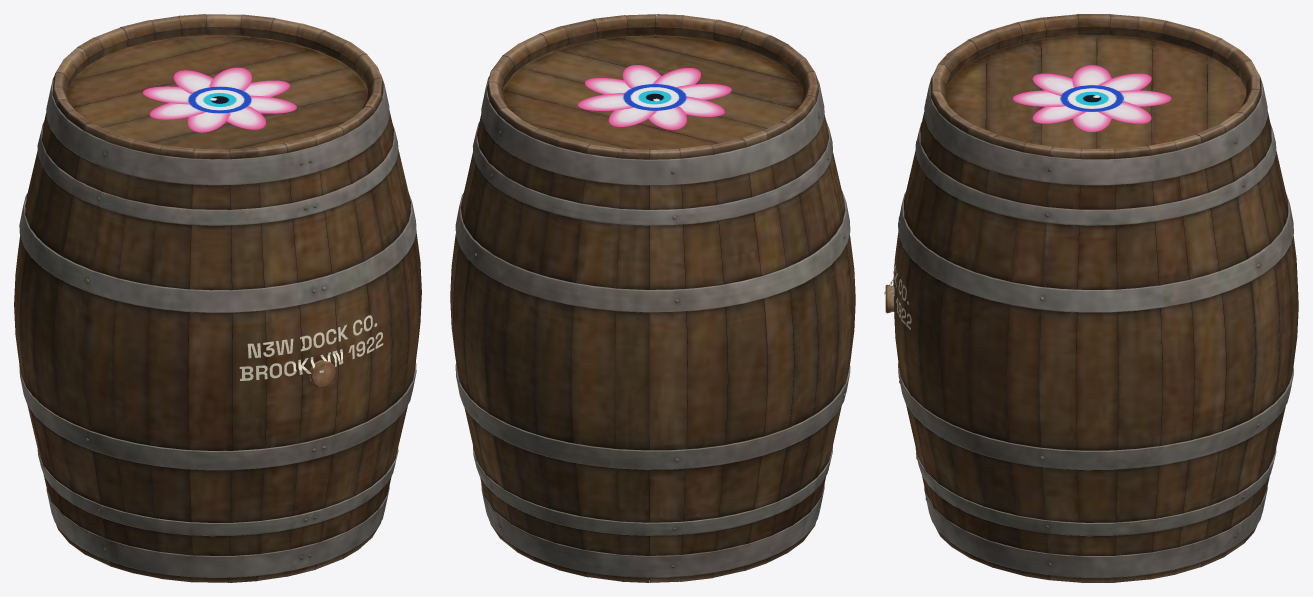
The model's file is nyb_dumbo_barrel.glb.
3 views of the same model, side by side, from view 1: azimuth 30°, elevation 25°; view 2: azimuth 150°, elevation 25°; view 3: azimuth 270°, elevation 25° (orthographic).
Parts seen in each view (by area): view 1: wine_barrel_01_Lid, stk_eyeflower.png, stk_lbl_d0becf22c8.png; view 2: wine_barrel_01_Lid, stk_eyeflower.png; view 3: wine_barrel_01_Lid, stk_eyeflower.png.
Part boxes in pixels (<box>): wine_barrel_01_Lid: <box>14,14,421,582</box>; stk_eyeflower.png: <box>143,67,296,132</box>; stk_lbl_d0becf22c8.png: <box>239,315,383,380</box>; wine_barrel_01_Lid: <box>450,14,855,582</box>; stk_eyeflower.png: <box>578,65,731,129</box>; wine_barrel_01_Lid: <box>885,14,1298,582</box>; stk_eyeflower.png: <box>1013,65,1171,131</box>.
Bounding box in the file's own units: 0.7419 × 0.8713 × 0.7584.
Materials: 3 (3 with a texture image).
